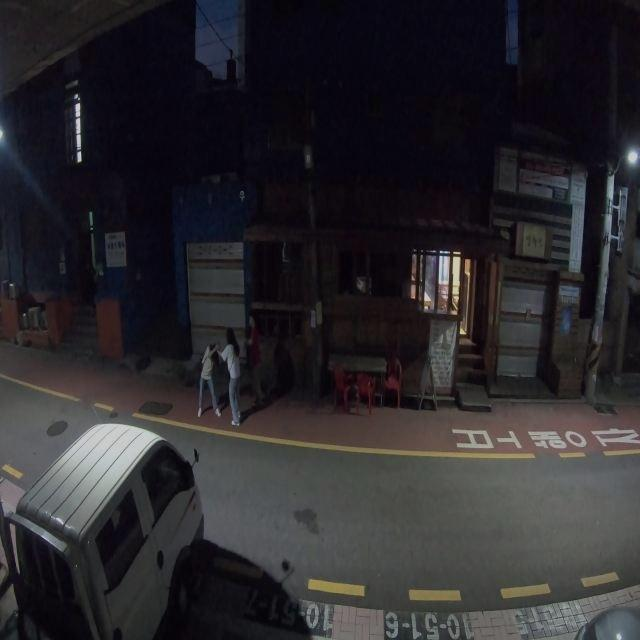fight: (195, 324, 244, 427)
